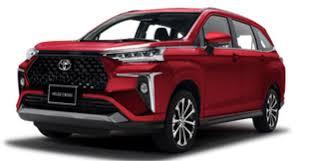toyota: (57, 57, 72, 71)
